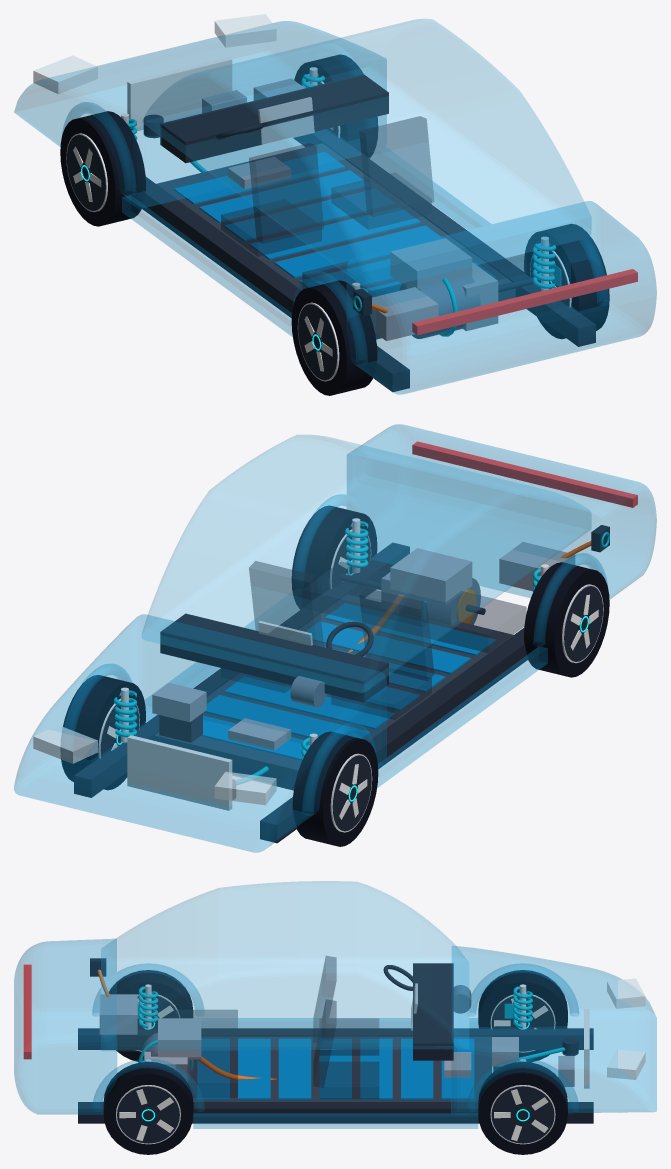
The model's file is electric_xray.glb.
3 views of the same model, one above another, from view 1: azimuth 30°, elevation 25°; view 2: azimuth 150°, elevation 25°; view 3: azimuth 270°, elevation 25° (orthographic). The views are drawn at different scales.
Parts seen in each view (by area): view 1: car_body_ev_xray, car_interior_visible, ev_battery_pack, wheels_and_tires, chassis_structure, ev_thermal_sys, ev_inverter, ev_charger, ev_motor, ev_suspension, ev_transmission, ev_dcdc_aux; view 2: car_body_ev_xray, car_interior_visible, wheels_and_tires, ev_battery_pack, chassis_structure, ev_thermal_sys, ev_inverter, ev_charger, ev_dcdc_aux, ev_suspension, ev_motor, ev_regen_brakes (+1 smaller); view 3: car_body_ev_xray, wheels_and_tires, ev_battery_pack, car_interior_visible, chassis_structure, ev_inverter, ev_charger, ev_suspension, ev_thermal_sys, ev_dcdc_aux, ev_regen_brakes, ev_transmission (+1 smaller).
Boxes of the visible parts, x1=… form: car_body_ev_xray: x1=14, y1=14, x2=656, y2=394; car_interior_visible: x1=160, y1=74, x2=526, y2=296; ev_battery_pack: x1=156, y1=143, x2=515, y2=339; wheels_and_tires: x1=60, y1=54, x2=609, y2=395; chassis_structure: x1=141, y1=129, x2=595, y2=392; ev_thermal_sys: x1=127, y1=57, x2=246, y2=172; ev_inverter: x1=390, y1=238, x2=472, y2=288; ev_charger: x1=353, y1=287, x2=438, y2=341; ev_motor: x1=399, y1=275, x2=480, y2=338; ev_suspension: x1=121, y1=67, x2=556, y2=292; ev_transmission: x1=462, y1=262, x2=540, y2=330; ev_dcdc_aux: x1=253, y1=78, x2=304, y2=100; car_body_ev_xray: x1=14, y1=424, x2=656, y2=852; car_interior_visible: x1=160, y1=561, x2=526, y2=719; wheels_and_tires: x1=61, y1=505, x2=609, y2=846; ev_battery_pack: x1=154, y1=594, x2=513, y2=790; chassis_structure: x1=74, y1=542, x2=528, y2=843; ev_thermal_sys: x1=127, y1=735, x2=268, y2=810; ev_inverter: x1=348, y1=548, x2=472, y2=652; ev_charger: x1=499, y1=525, x2=609, y2=591; ev_dcdc_aux: x1=152, y1=682, x2=206, y2=742; ev_suspension: x1=113, y1=518, x2=549, y2=760; ev_motor: x1=399, y1=578, x2=480, y2=625; ev_regen_brakes: x1=119, y1=540, x2=361, y2=723; car_body_ev_xray: x1=14, y1=881, x2=656, y2=1128; wheels_and_tires: x1=103, y1=970, x2=567, y2=1154; ev_battery_pack: x1=188, y1=1036, x2=491, y2=1101; car_interior_visible: x1=176, y1=956, x2=453, y2=1099; chassis_structure: x1=78, y1=1028, x2=593, y2=1123; ev_inverter: x1=158, y1=1018, x2=276, y2=1080; ev_charger: x1=90, y1=958, x2=137, y2=1034; ev_suspension: x1=138, y1=984, x2=532, y2=1062; ev_thermal_sys: x1=519, y1=1009, x2=589, y2=1088; ev_dcdc_aux: x1=492, y1=1037, x2=518, y2=1071; ev_regen_brakes: x1=137, y1=985, x2=519, y2=1018; ev_transmission: x1=144, y1=1051, x2=187, y2=1082.
Bounding box in the file's own units: 1.85 × 1.45 × 4.74.
